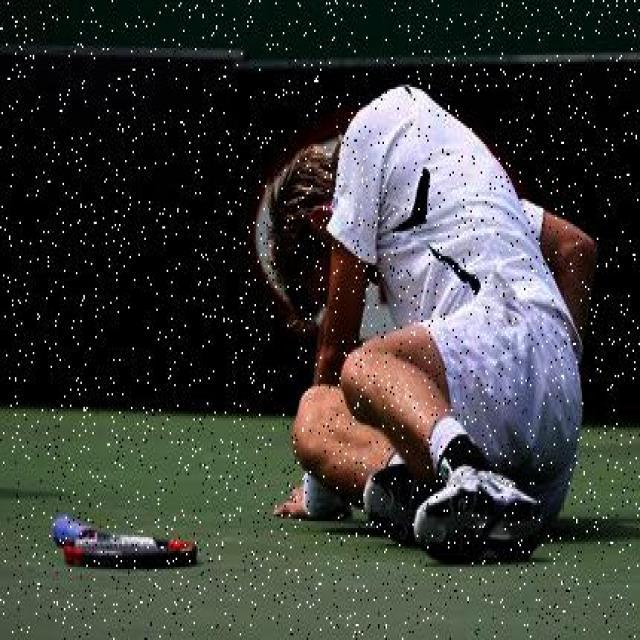fall: (270, 91, 592, 551)
